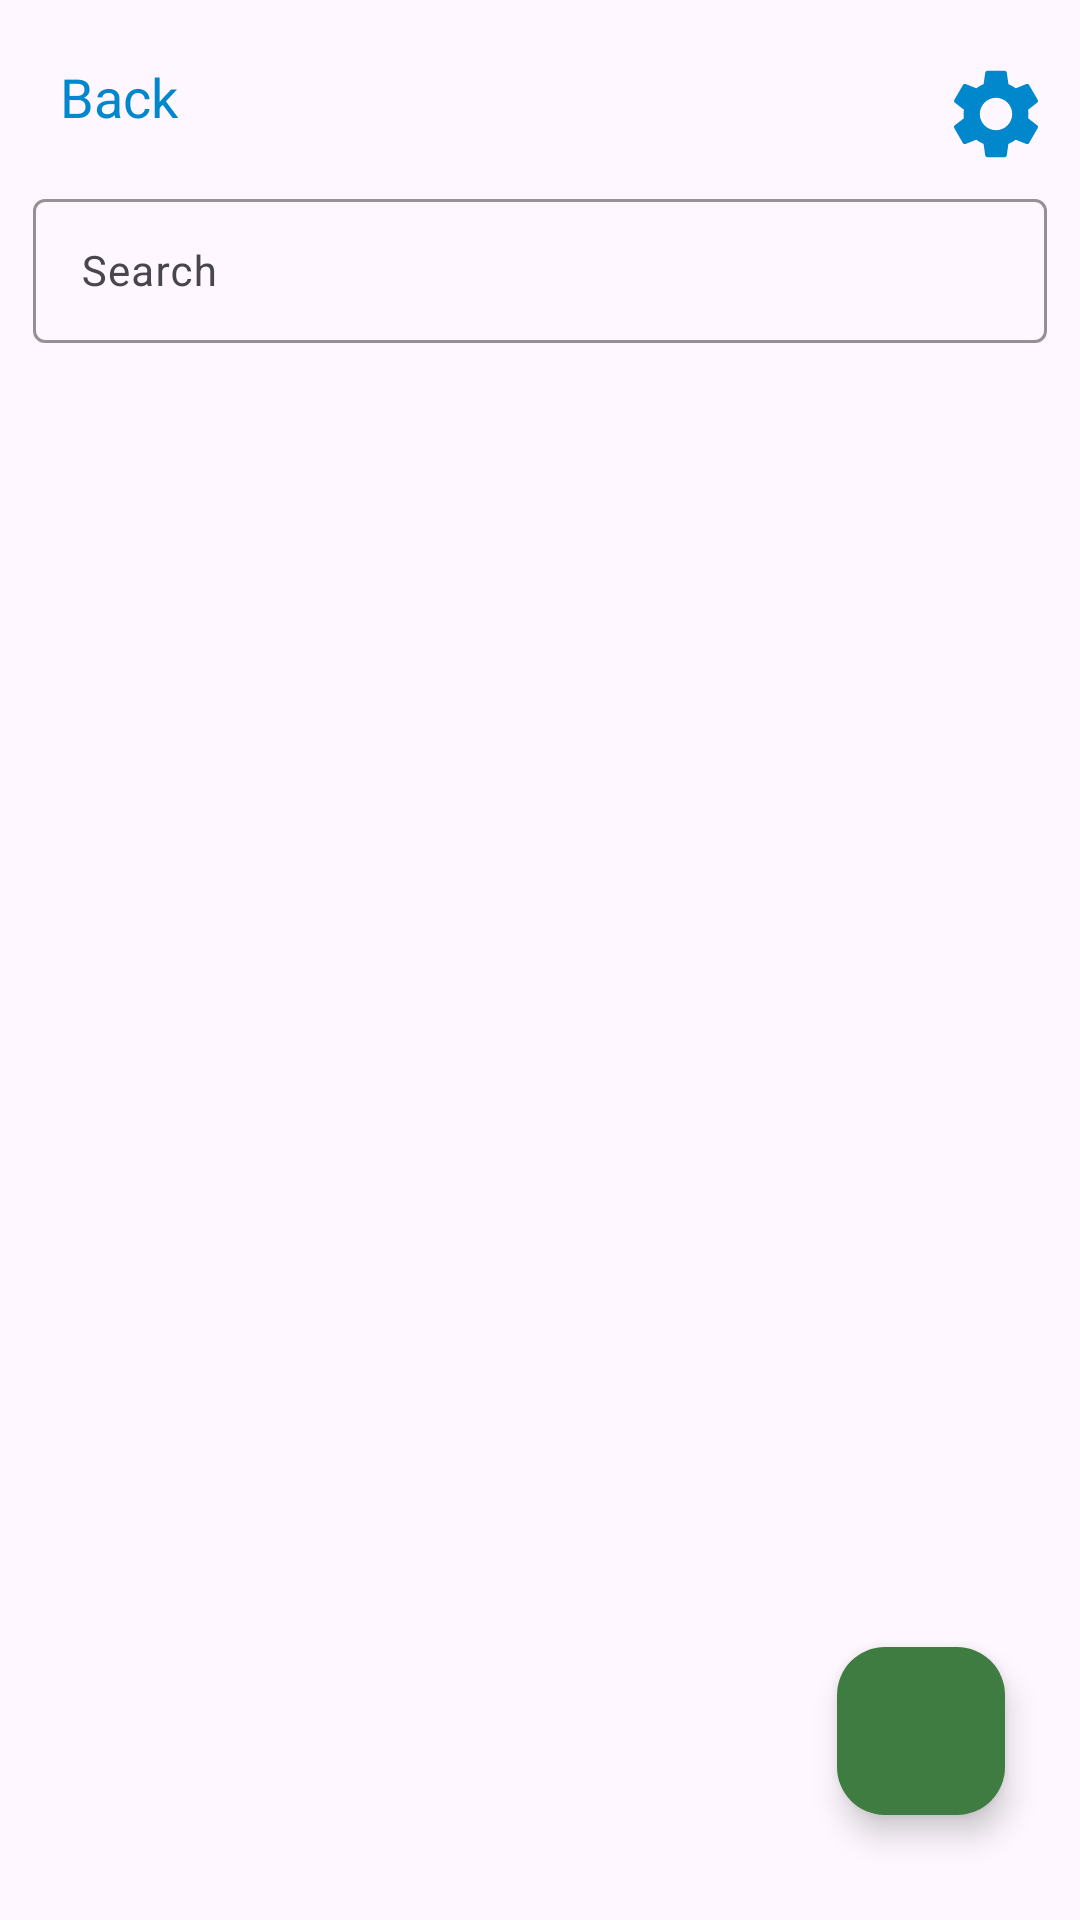

Locate icon controls on the screen. Image size 1080x1920, boxes as (x1, y1, x2, y2).
settings: (954, 70, 1038, 158)
